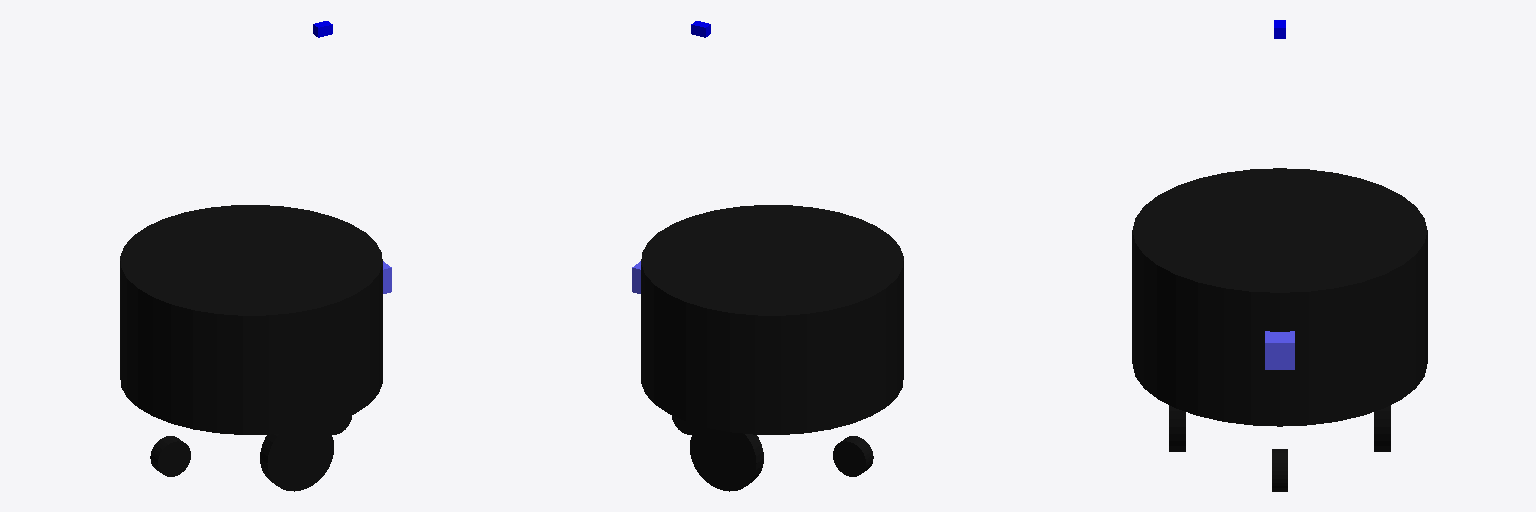
robot.urdf — bobo_standalone:
<?xml version="1.0" ?>
<!-- =================================================================================== -->
<!-- |    This document was autogenerated by xacro from bobo_complete.xacro            | -->
<!-- |    EDITING THIS FILE BY HAND IS NOT RECOMMENDED                                 | -->
<!-- =================================================================================== -->
<robot name="bobo_standalone" xmlns:controller="http://playerstage.sourceforge.net/gazebo/xmlschema/#controller" xmlns:interface="http://playerstage.sourceforge.net/gazebo/xmlschema/#interface" xmlns:sensor="http://playerstage.sourceforge.net/gazebo/xmlschema/#sensor">
  <material name="white">
    <color rgba="1 1 1 0.8"/>
  </material>
  <material name="grey">
    <color rgba="0.5 0.5 0.5 1"/>
  </material>
  <material name="light_grey">
    <color rgba="0.6 0.6 0.6 0.7"/>
  </material>
  <material name="dark_grey">
    <color rgba="0.3 0.3 0.3 0.7"/>
  </material>
  <material name="black">
    <color rgba="0.1 0.1 0.1 0.8"/>
  </material>
  <material name="red">
    <color rgba="1 0 0 0.8"/>
  </material>
  <material name="green">
    <color rgba="0.0 0.8 0.0 1"/>
  </material>
  <material name="blue">
    <color rgba="0.0 0.0 1.0 1"/>
  </material>
  <material name="grey_blue">
    <color rgba="0.4 0.4 1.0 0.8"/>
  </material>
  <material name="orange">
    <color rgba="1.0 0.7 0.0 1"/>
  </material>
  <ros2_control name="GazeboSystem" type="system">
    <hardware>
      <plugin>gazebo_ros2_control/GazeboSystem</plugin>
    </hardware>
    <joint name="left_wheel_joint">
      <command_interface name="velocity">
        <param name="min">-1</param>
        <param name="max">1</param>
      </command_interface>
      <state_interface name="velocity"/>
      <state_interface name="position"/>
    </joint>
    <joint name="right_wheel_joint">
      <command_interface name="velocity">
        <param name="min">-1</param>
        <param name="max">1</param>
      </command_interface>
      <state_interface name="velocity"/>
      <state_interface name="position"/>
    </joint>
  </ros2_control>
  <gazebo>
    <plugin filename="libgazebo_ros2_control.so" name="gazebo_ros2_control">
      <robot_param>robot_description</robot_param>
      <robot_param_node>robot_state_publisher</robot_param_node>
      <parameters>[local-path]/test_ws/src/simulation_packages/romrobots_description/config/bobo_controllers.yaml</parameters>
      <!-- Output -->
      <odometry_frame>odom</odometry_frame>
      <robot_base_frame>base_footprint</robot_base_frame>
      <publish_odom>true</publish_odom>
      <publish_odom_tf>true</publish_odom_tf>
      <publish_wheel_tf>true</publish_wheel_tf>
    </plugin>
  </gazebo>
  <gazebo reference="left_wheel_link">
    <material>Gazebo/Black</material>
    <kp>1000000.0</kp>
    <kd>10.0</kd>
    <mu1>1.2</mu1>
    <mu2>1.2</mu2>
    <fdir1>1 0 0</fdir1>
    <maxVel>0.5</maxVel>
    <minDepth>0.00</minDepth>
    <!-- <mu1>1.3</mu1>
      <mu2>1.3</mu2> -->
  </gazebo>
  <gazebo reference="right_wheel_link">
    <material>Gazebo/Black</material>
    <kp>1000000.0</kp>
    <kd>10.0</kd>
    <mu1>1.2</mu1>
    <mu2>1.2</mu2>
    <fdir1>1 0 0</fdir1>
    <maxVel>0.5</maxVel>
    <minDepth>0.00</minDepth>
    <!-- <mu1>1.3</mu1>
      <mu2>1.3</mu2> -->
  </gazebo>
  <gazebo reference="caster_front_link">
    <material>Gazebo/Black</material>
    <!-- <kp>1000000.0</kp>
      <kd>10.0</kd>
      <mu1>1.2</mu1>
      <mu2>1.2</mu2>
      <fdir1>1 0 0</fdir1>
      <maxVel>0.5</maxVel>
      <minDepth>0.00</minDepth> -->
    <mu1>1.0</mu1>
    <mu2>0.001</mu2>
  </gazebo>
  <gazebo reference="caster_back_link">
    <material>Gazebo/Black</material>
    <!-- <kp>1000000.0</kp>
      <kd>10.0</kd>
      <mu1>1.2</mu1>
      <mu2>1.2</mu2>
      <fdir1>1 0 0</fdir1>
      <maxVel>0.5</maxVel>  
      <minDepth>0.00</minDepth> -->
    <mu1>1.0</mu1>
    <mu2>0.001</mu2>
  </gazebo>
  <gazebo reference="imu_link">
    <gravity>true</gravity>
    <sensor name="imu_sensor" type="imu">
      <always_on>true</always_on>
      <update_rate>20</update_rate>
      <visualize>true</visualize>
      <topic>/imu</topic>
      <plugin filename="libgazebo_ros_imu_sensor.so" name="imu_plugin">
        <topicName>imu</topicName>
        <bodyName>imu_link</bodyName>
        <updateRateHZ>10.0</updateRateHZ>
        <gaussianNoise>0.0</gaussianNoise>
        <xyzOffset>0 0 0</xyzOffset>
        <rpyOffset>0 0 0</rpyOffset>
        <frameName>imu_link</frameName>
        <initialOrientationAsReference>false</initialOrientationAsReference>
      </plugin>
      <pose>0 0 0 0 0 0</pose>
    </sensor>
  </gazebo>
  <!-- TOP CAMERA -->
  <joint name="camera_optical_joint" type="fixed">
    <parent link="cam3d_top_link"/>
    <child link="camera_link_optical"/>
    <origin rpy="-1.57075 0 -1.57075" xyz="0 0 0"/>
    <!-- ${-pi/2} -->
  </joint>
  <link name="camera_link_optical"/>
  <gazebo reference="cam3d_top_link">
    <material>Gazebo/Blue</material>
    <sensor name="camera_top" type="depth">
      <pose>0 0 0 0 0 0</pose>
      <visualize>true</visualize>
      <update_rate>10</update_rate>
      <camera>
        <horizontal_fov>1.089</horizontal_fov>
        <image>
          <format>B8G8R8</format>
          <width>640</width>
          <height>480</height>
        </image>
        <clip>
          <near>0.05</near>
          <far>8.0</far>
        </clip>
      </camera>
      <plugin filename="libgazebo_ros_camera.so" name="camera_controller_top">
        <frame_name>camera_link_optical</frame_name>
        <min_depth>0.1</min_depth>
        <max_depth>50</max_depth>
      </plugin>
    </sensor>
  </gazebo>
  <gazebo reference="laser_link">
    <material>Gazebo/Red</material>
    <sensor name="laser" type="ray">
      <pose>0 0 0 0 0 0</pose>
      <visualize>true</visualize>
      <update_rate>20</update_rate>
      <ray>
        <scan>
          <horizontal>
            <samples>360</samples>
            <resolution>1</resolution>
            <min_angle>-2.3562</min_angle>
            <!-- -3.14 -->
            <max_angle>2.3562</max_angle>
            <!-- 3.14 -->
          </horizontal>
        </scan>
        <range>
          <min>0.5</min>
          <!-- 0.3 -->
          <max>12</max>
          <!-- 12 -->
          <resolution>0.01</resolution>
        </range>
      </ray>
      <plugin filename="libgazebo_ros_ray_sensor.so" name="laser_controller">
        <ros>
          <argument>~/out:=scan</argument>
        </ros>
        <output_type>sensor_msgs/LaserScan</output_type>
        <frame_name>laser_link</frame_name>
      </plugin>
    </sensor>
  </gazebo>
  <link name="base_footprint"/>
  <joint name="base_joint" type="fixed">
    <origin rpy="0 0 0" xyz="0 0 0.0102"/>
    <parent link="base_footprint"/>
    <child link="base_link"/>
  </joint>
  <link name="base_link">
    <visual>
      <geometry>
        <!-- new mesh -->
        <cylinder length="0.24" radius="0.24"/>
      </geometry>
      <!-- <origin xyz="0 0 0.15" rpy="0 0 0"/> -->
      <origin rpy="0 0 0" xyz="0 0 0.25"/>
      <material name="black"/>
    </visual>
    <collision name="base">
      <geometry>
        <cylinder length="0.24" radius="0.24"/>
      </geometry>
      <!-- <origin xyz="0.0 0 0.15" rpy="0 0 0"/> -->
      <origin rpy="0 0 0" xyz="0 0 0.25"/>
    </collision>
    <inertial>
      <origin xyz="0.01 0 0"/>
      <mass value="2.4"/>
      <inertia ixx="0.019995" ixy="0.0" ixz="0.0" iyy="0.019995" iyz="0.0" izz="0.03675"/>
    </inertial>
  </link>
  <joint name="left_wheel_joint" type="continuous">
    <parent link="base_link"/>
    <child link="left_wheel_link"/>
    <!-- <origin xyz="0.00 ${0.333/2} 0.02" rpy="${-M_PI/2} 0 0"/> -->
    <origin rpy="-1.5707963267948966 0 0" xyz="0.00 0.1665 0.05"/>
    <axis xyz="0 0 1"/>
  </joint>
  <link name="left_wheel_link">
    <visual>
      <geometry>
        <cylinder length="0.0276" radius="0.0705"/>
      </geometry>
      <!-- <origin xyz="0 -0.03 0" rpy="0 0 0"/> -->
      <origin rpy="0 0 0" xyz="0 0 0"/>
      <material name="black"/>
    </visual>
    <collision>
      <geometry>
        <sphere radius="0.0705"/>
      </geometry>
      <origin rpy="0 0 0" xyz="0 0 0"/>
    </collision>
    <inertial>
      <mass value="0.01"/>
      <origin xyz="0 0 0"/>
      <inertia ixx="0.001" ixy="0.0" ixz="0.0" iyy="0.001" iyz="0.0" izz="0.001"/>
    </inertial>
  </link>
  <joint name="right_wheel_joint" type="continuous">
    <parent link="base_link"/>
    <child link="right_wheel_link"/>
    <origin rpy="-1.5707963267948966 0 0" xyz="0.00 -0.1665 0.05"/>
    <axis xyz="0 0 1"/>
  </joint>
  <link name="right_wheel_link">
    <visual>
      <geometry>
        <cylinder length="0.0276" radius="0.0705"/>
      </geometry>
      <!-- <origin xyz="0 -0.03 0" rpy="0 0 0"/> -->
      <origin rpy="0 0 0" xyz="0 0 0"/>
      <material name="black"/>
    </visual>
    <collision>
      <geometry>
        <sphere radius="0.0705"/>
      </geometry>
      <origin rpy="0 0 0" xyz="0 0 0"/>
    </collision>
    <inertial>
      <mass value="0.01"/>
      <origin xyz="0 0 0"/>
      <inertia ixx="0.001" ixy="0.0" ixz="0.0" iyy="0.001" iyz="0.0" izz="0.001"/>
    </inertial>
  </link>
  <joint name="caster_front_joint" type="fixed">
    <parent link="base_link"/>
    <child link="caster_front_link"/>
    <origin rpy="-1.5707963267948966 0 0" xyz="0.17 0.0 0.0195"/>
  </joint>
  <link name="caster_front_link">
    <visual>
      <geometry>
        <cylinder length="0.0276" radius="0.035"/>
      </geometry>
      <origin rpy="0 0 0" xyz="0 0 0"/>
      <material name="black"/>
    </visual>
    <collision>
      <geometry>
        <sphere radius="0.035"/>
      </geometry>
      <origin rpy="0 0 0" xyz="0 0 0"/>
    </collision>
    <inertial>
      <mass value="0.01"/>
      <origin xyz="0 0 0"/>
      <inertia ixx="0.001" ixy="0.0" ixz="0.0" iyy="0.001" iyz="0.0" izz="0.001"/>
    </inertial>
  </link>
  <joint name="caster_back_joint" type="fixed">
    <parent link="base_link"/>
    <child link="caster_back_link"/>
    <origin rpy="-1.5707963267948966 0 0" xyz="-0.17 0.0 0.015"/>
  </joint>
  <link name="caster_back_link">
    <visual>
      <geometry>
        <cylinder length="0.0276" radius="0.035"/>
      </geometry>
      <origin rpy="0 0 0" xyz="0 0 0"/>
      <material name="black"/>
    </visual>
    <collision>
      <geometry>
        <sphere radius="0.035"/>
      </geometry>
      <origin rpy="0 0 0" xyz="0 0 0"/>
    </collision>
    <inertial>
      <mass value="0.01"/>
      <origin xyz="0 0 0"/>
      <inertia ixx="0.001" ixy="0.0" ixz="0.0" iyy="0.001" iyz="0.0" izz="0.001"/>
    </inertial>
  </link>
  <joint name="imu_joint" type="fixed">
    <parent link="base_link"/>
    <child link="imu_link"/>
    <origin rpy="0 0 0" xyz="0 0 0.268"/>
  </joint>
  <link name="imu_link">
    <visual>
      <origin rpy="0 0 0" xyz="0 0 0.0"/>
      <geometry>
        <box size="0.03 0.02 0.02"/>
      </geometry>
      <material name="red"/>
    </visual>
  </link>
  <joint name="laser_joint" type="fixed">
    <parent link="base_link"/>
    <child link="laser_link"/>
    <!-- <origin xyz="0.156 0 0.275" rpy="0 0 0"/> -->
    <origin rpy="0 0 0" xyz="0.256 0 0.275"/>
  </joint>
  <link name="laser_link">
    <visual>
      <origin rpy="0 0 0" xyz="0 0 0.0"/>
      <geometry>
        <box size="0.05 0.05 0.05"/>
      </geometry>
      <material name="grey_blue"/>
    </visual>
    <collision>
      <origin rpy="0 0 0" xyz="0.015 0 -0.0065"/>
      <geometry>
        <cylinder length="0.0315" radius="0.055"/>
      </geometry>
    </collision>
    <!-- <inertial>
        <mass value="0.114" />
        <origin xyz="0 0 0" />
        <inertia ixx="0.001" ixy="0.0" ixz="0.0"
                 iyy="0.001" iyz="0.0"
                 izz="0.001" />
      </inertial> -->
  </link>
  <!-- 3D CAM_Top -->
  <joint name="cam3d_top_joint" type="fixed">
    <parent link="base_link"/>
    <child link="cam3d_top_link"/>
    <origin rpy="0 0 0" xyz="0.15 0 0.8"/>
  </joint>
  <link name="cam3d_top_link">
    <visual>
      <origin rpy="0 0 0" xyz="0 0 0.0"/>
      <geometry>
        <box size="0.03 0.02 0.02"/>
      </geometry>
      <material name="blue"/>
    </visual>
  </link>
</robot>

--- What the picture shows (computed from the rendered views, not written in the file) ---
The picture shows the robot from 3 angles, left to right: view 1: azimuth 30°, elevation 25°; view 2: azimuth 150°, elevation 25°; view 3: azimuth 270°, elevation 25°; orthographic projection.
Model bobo_standalone with 10 links and 9 joints (2 continuous, 7 fixed), rooted at base_footprint, posed all joints at 0.
Visible links, largest first — view 1: base_link, right_wheel_link, caster_back_link; view 2: base_link, left_wheel_link, caster_back_link; view 3: base_link, laser_link, left_wheel_link, right_wheel_link, caster_front_link.
Boxes of the visible links, box(x1,y1,x2,y2) form: base_link: box(120, 205, 382, 434); right_wheel_link: box(260, 426, 333, 491); caster_back_link: box(150, 436, 190, 476); base_link: box(641, 205, 903, 434); left_wheel_link: box(690, 426, 763, 491); caster_back_link: box(833, 436, 873, 476); base_link: box(1132, 168, 1427, 426); laser_link: box(1265, 331, 1294, 369); left_wheel_link: box(1374, 405, 1390, 451); right_wheel_link: box(1169, 405, 1185, 451); caster_front_link: box(1272, 449, 1287, 491).
Bounding box of the posed robot: 0.521 × 0.48 × 0.8305 m (x, y, z).
Geometry: primitives only (box / cylinder / sphere), no mesh files.